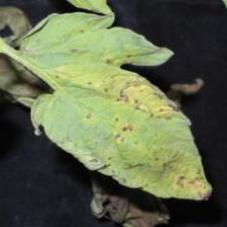Bacterial Spot: (18, 9, 214, 201)
